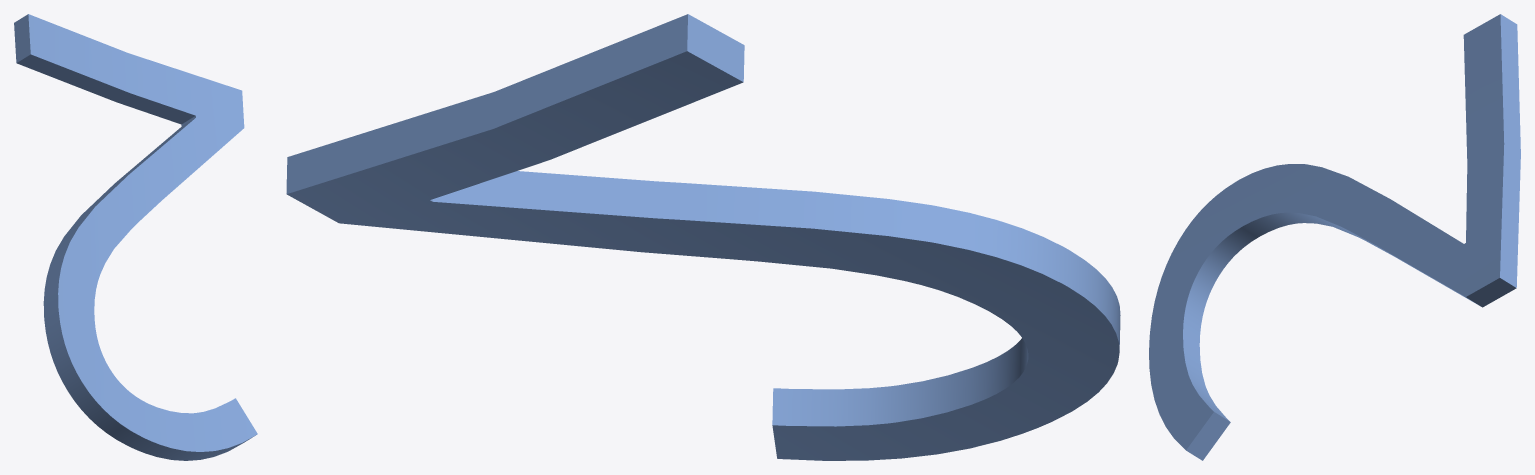
File: Number_2.gltf
3 views of the same model, side by side, from view 1: azimuth 30°, elevation 25°; view 2: azimuth 150°, elevation 25°; view 3: azimuth 270°, elevation 25° (orthographic). The views are drawn at different scales.
Visible parts, largest first — view 1: Sub_2_Cell_3_2_Number_2; view 2: Sub_2_Cell_3_2_Number_2; view 3: Sub_2_Cell_3_2_Number_2.
Boxes of the visible parts, left/top/right/bottom form: Sub_2_Cell_3_2_Number_2: left=14, top=14, right=257, bottom=460; Sub_2_Cell_3_2_Number_2: left=286, top=14, right=1120, bottom=460; Sub_2_Cell_3_2_Number_2: left=1149, top=14, right=1520, bottom=460.
Bounding box in the file's own units: 0.0211 × 0.0227 × 0.0191.
